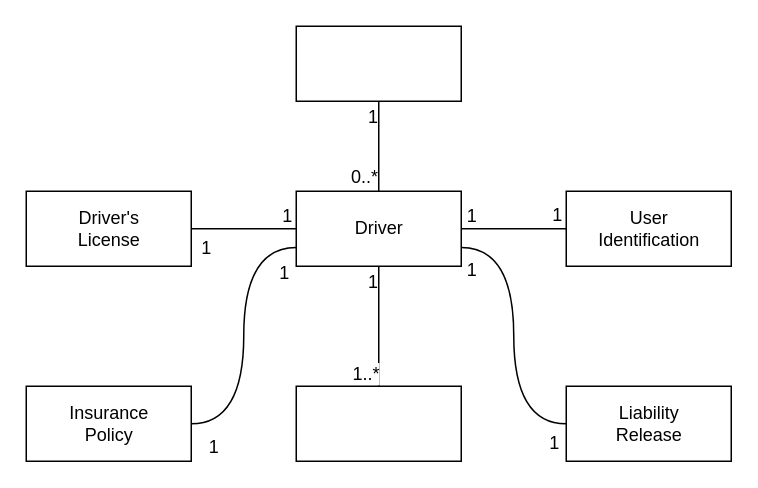
The diagram is 758 pixels wide and 488 high, and some of its shapes have lost their labels. Each missing label, with the centre of its shape:
"Credit Card" goes at point 378,423.
"Repository" goes at point 378,63.
